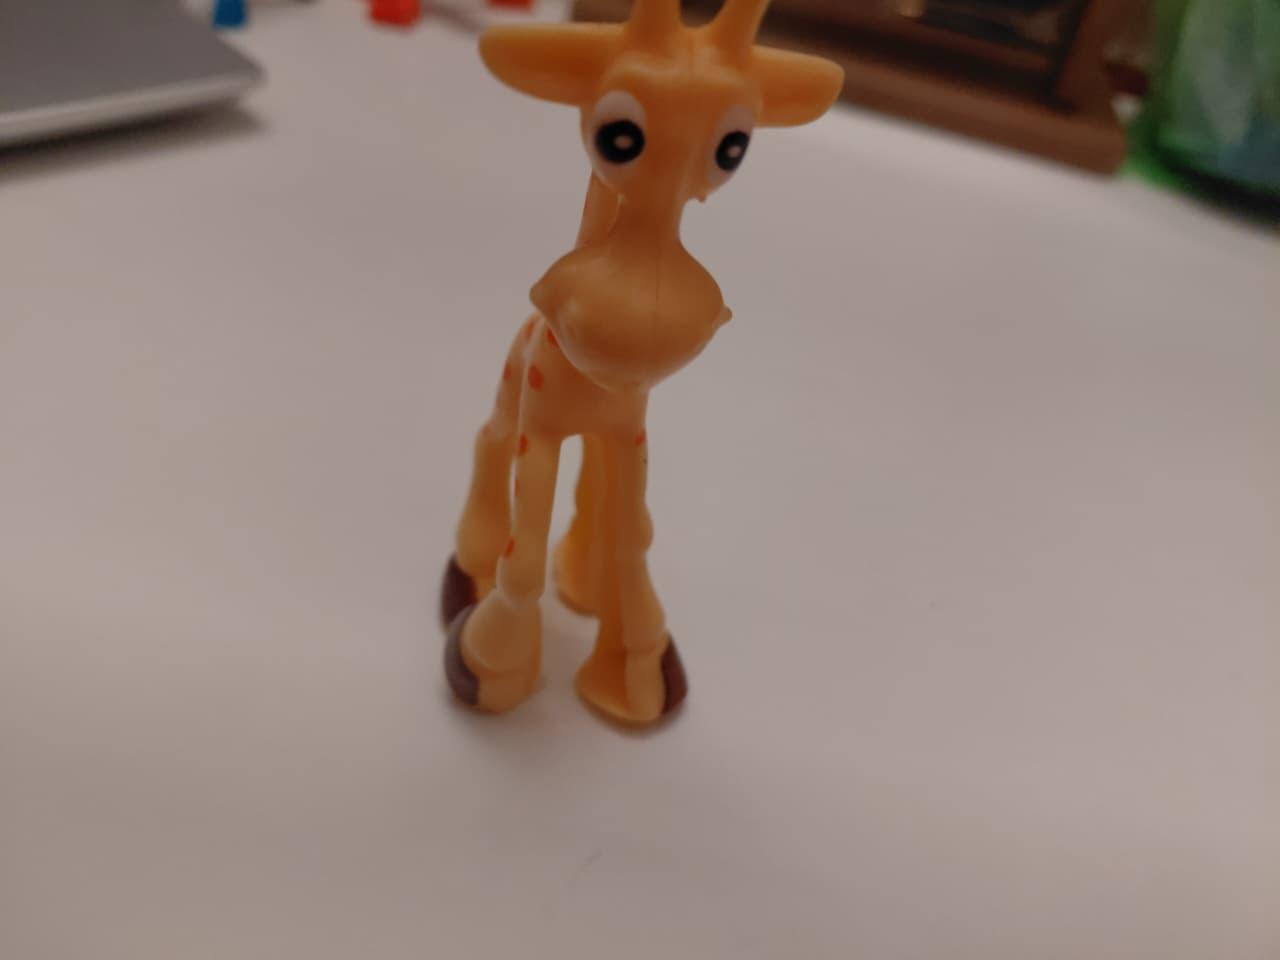giraffe: (388, 10, 883, 746)
